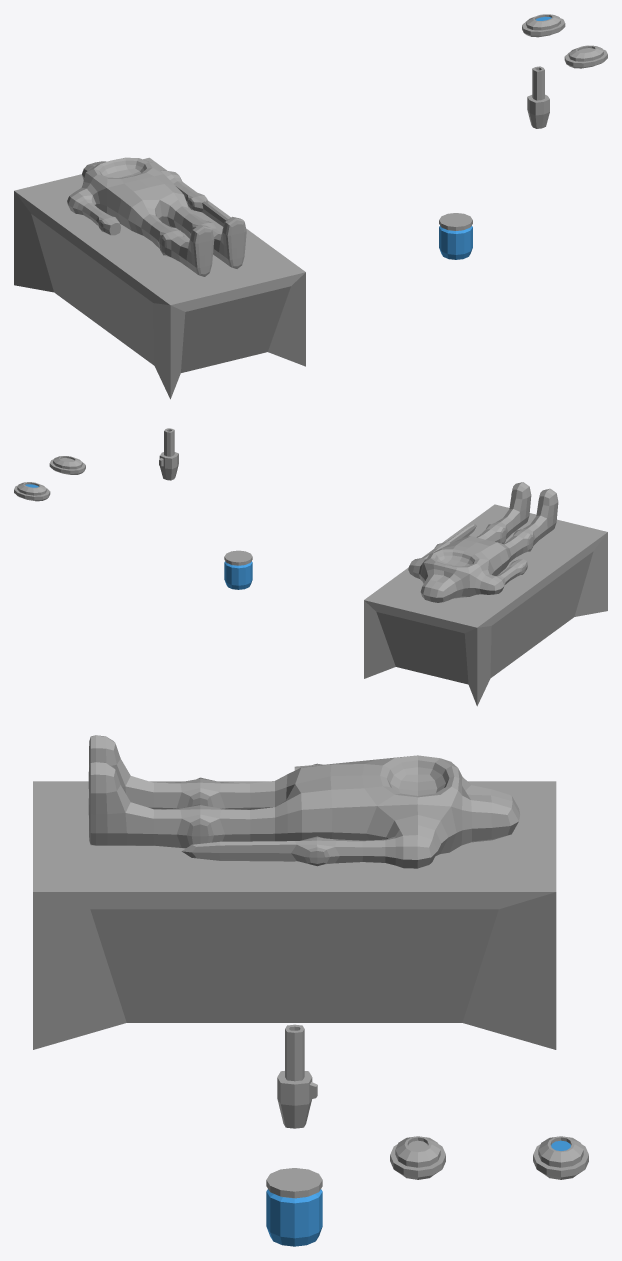
Rendered from Robot.fbx.
3 renders of one model, top to bottom at view 1: azimuth 30°, elevation 25°; view 2: azimuth 150°, elevation 25°; view 3: azimuth 270°, elevation 25°, orthographic. The views are drawn at different scales.
Parts seen in each view (by area): view 1: Worktable, RobotBody_Incomplete, Plasma, PlasmaRifle, PowerCore_Empty, PowerCore_Full; view 2: Worktable, RobotBody_Incomplete, Plasma, PlasmaRifle, PowerCore_Full, PowerCore_Empty; view 3: Worktable, RobotBody_Incomplete, Plasma, PlasmaRifle, PowerCore_Empty, PowerCore_Full.
Boxes of the visible parts, x1,y1,x2,y2 form: Worktable: (14, 157, 305, 399); RobotBody_Incomplete: (67, 157, 246, 276); Plasma: (439, 213, 472, 259); PlasmaRifle: (527, 66, 549, 128); PowerCore_Empty: (564, 45, 607, 68); PowerCore_Full: (522, 14, 565, 37); Worktable: (364, 504, 607, 706); RobotBody_Incomplete: (408, 482, 558, 602); Plasma: (224, 550, 252, 589); PlasmaRifle: (159, 428, 178, 480); PowerCore_Full: (14, 482, 50, 501); PowerCore_Empty: (49, 456, 85, 474); Worktable: (33, 781, 556, 1049); RobotBody_Incomplete: (88, 735, 519, 868); Plasma: (266, 1168, 322, 1246); PlasmaRifle: (277, 1024, 317, 1128); PowerCore_Empty: (390, 1136, 445, 1179); PowerCore_Full: (533, 1136, 588, 1179).
Size of the model in its own units: 1219 by 638 by 348.
